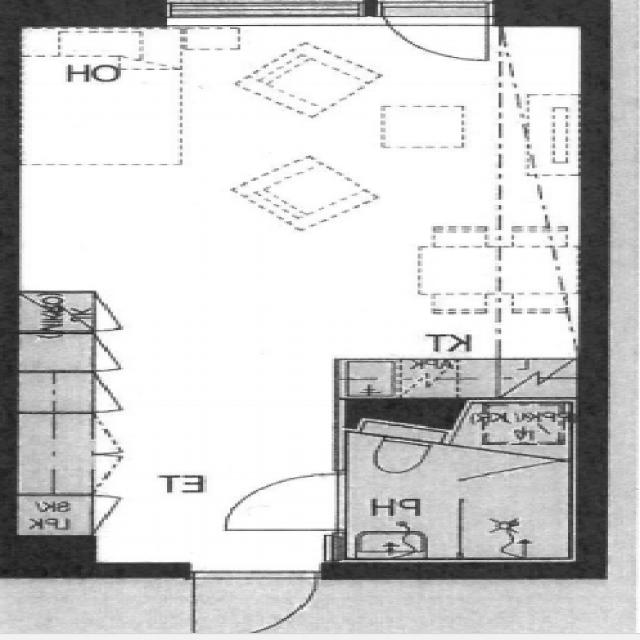door: (383, 0, 488, 79), (195, 572, 316, 640), (228, 474, 346, 530)
